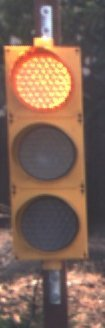Red: (5, 25, 105, 285)
